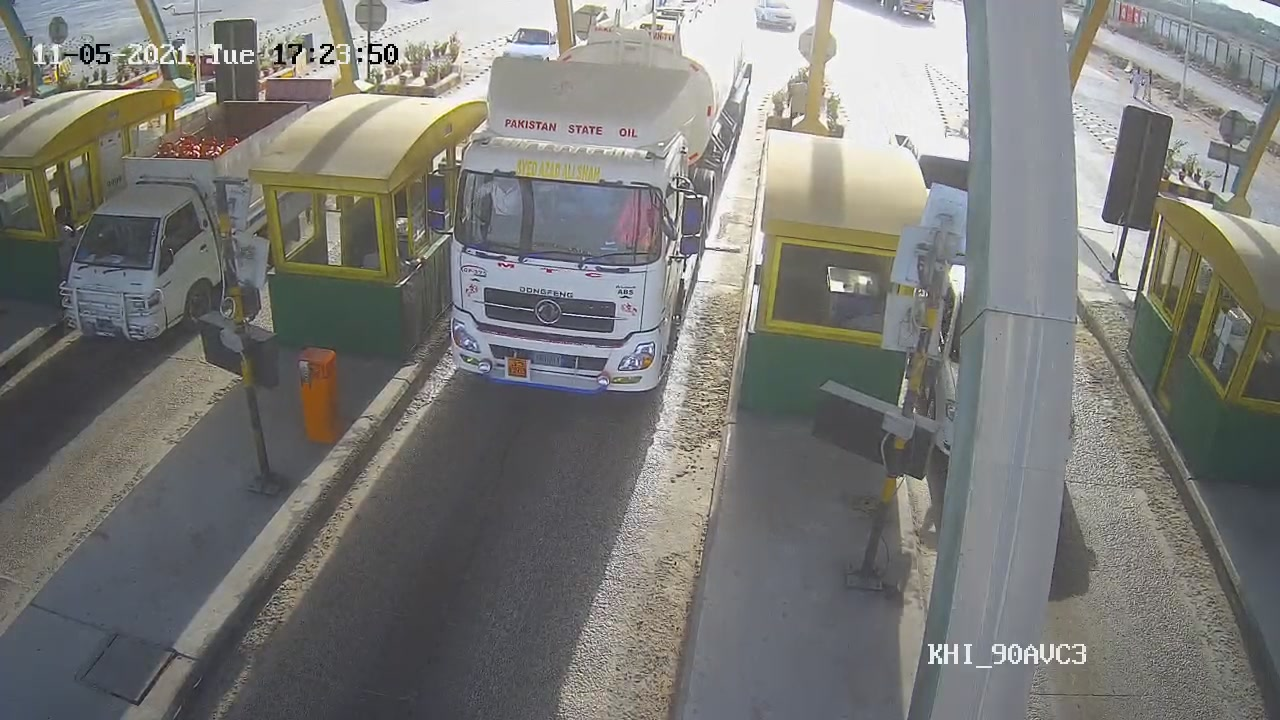F6: (432, 1, 752, 396)
